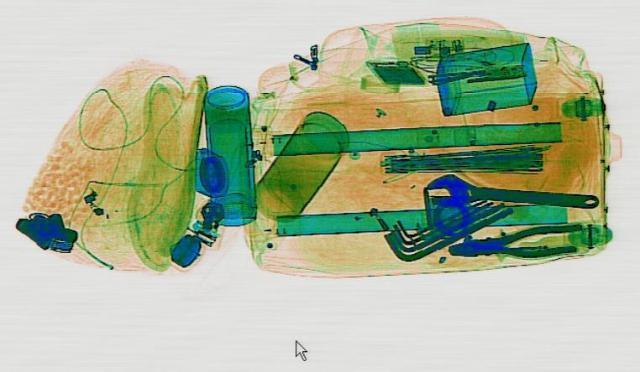Pliers: (444, 222, 588, 262)
Wrench: (418, 170, 604, 216)
